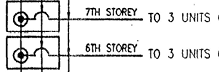Single Phase Tap-Off Unit: (4, 34, 63, 72), (5, 0, 62, 34)
